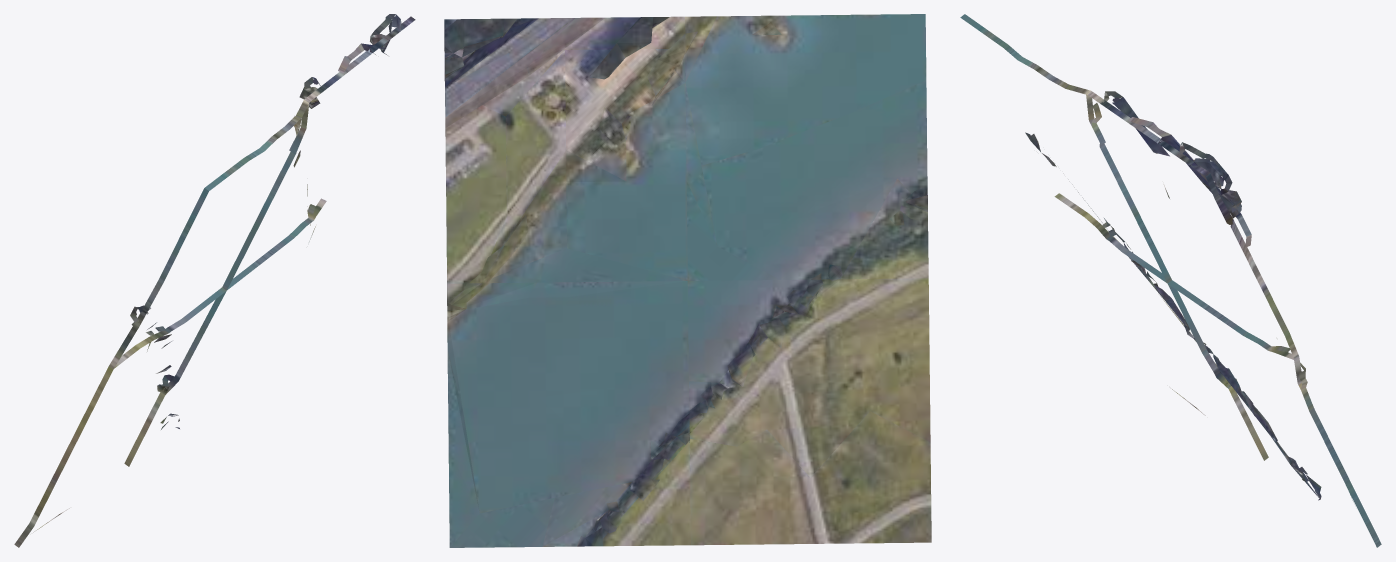
3 renders of one model, left to right at view 1: azimuth 30°, elevation 25°; view 2: azimuth 150°, elevation 25°; view 3: azimuth 270°, elevation 25°, orthographic. The views are drawn at different scales.
Size of the model in its own units: 306 by 285 by 256.
1 material, 1 textured.
